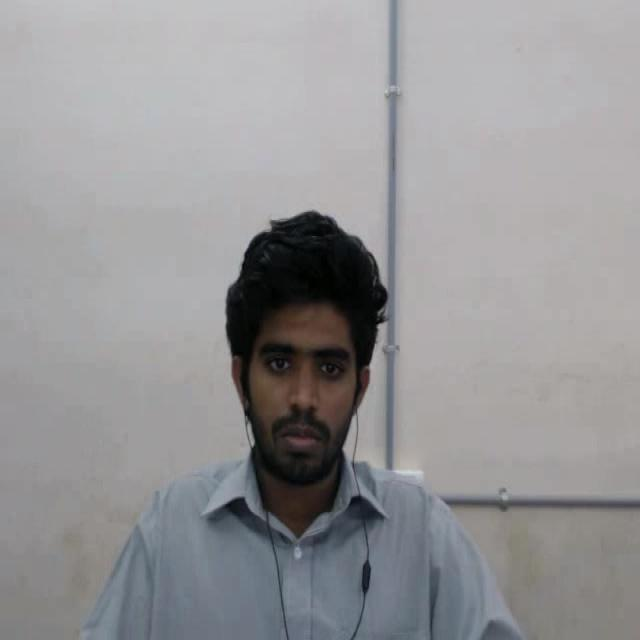Engaged: (207, 201, 412, 506)
